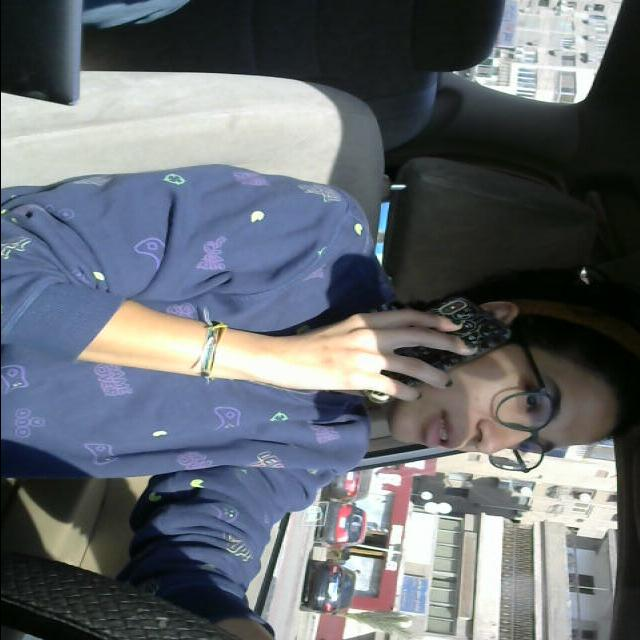mobile use: (348, 293, 514, 402)
